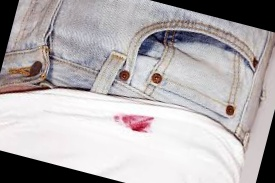lipstick: (113, 105, 160, 141)
